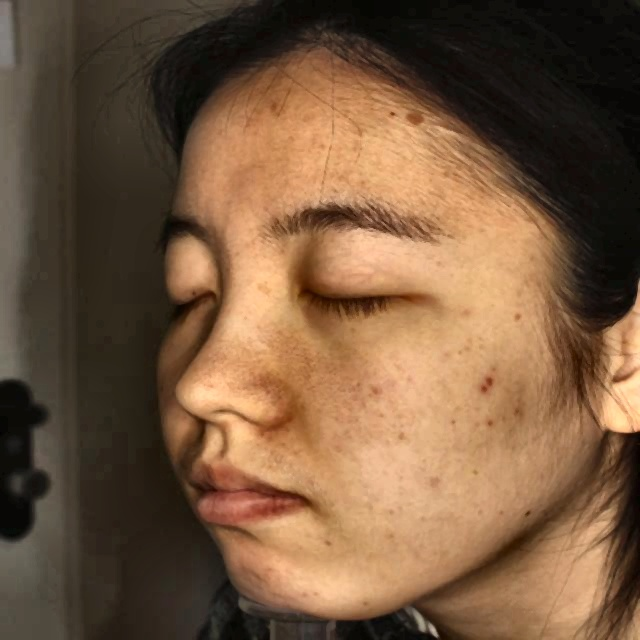comedone: (476, 373, 502, 397)
